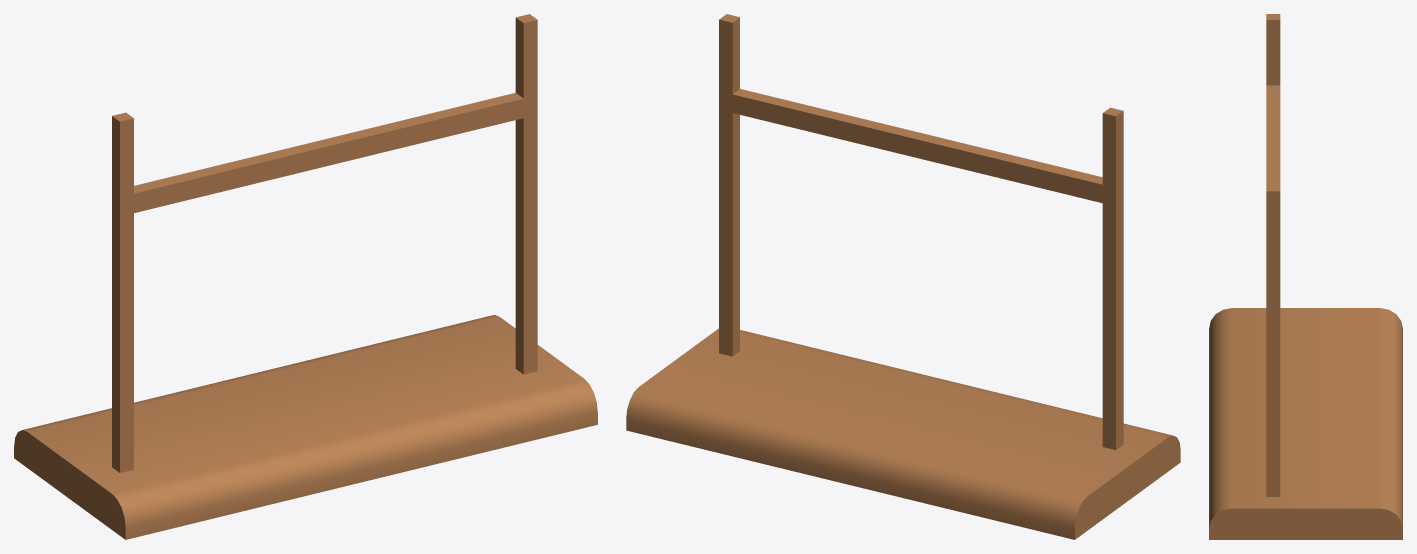
File: Spear Box.fbx
3 views of the same model, side by side, from view 1: azimuth 30°, elevation 25°; view 2: azimuth 150°, elevation 25°; view 3: azimuth 270°, elevation 25° (orthographic). The views are drawn at different scales.
Visible parts, largest first — view 1: Cube; view 2: Cube; view 3: Cube.
Boxes of the visible parts, box(x1,y1,x2,y2) form: Cube: box(14, 14, 597, 539); Cube: box(626, 14, 1180, 539); Cube: box(1209, 14, 1402, 539).
Size of the model in its own units: 1.61 by 1.26 by 0.6577.
